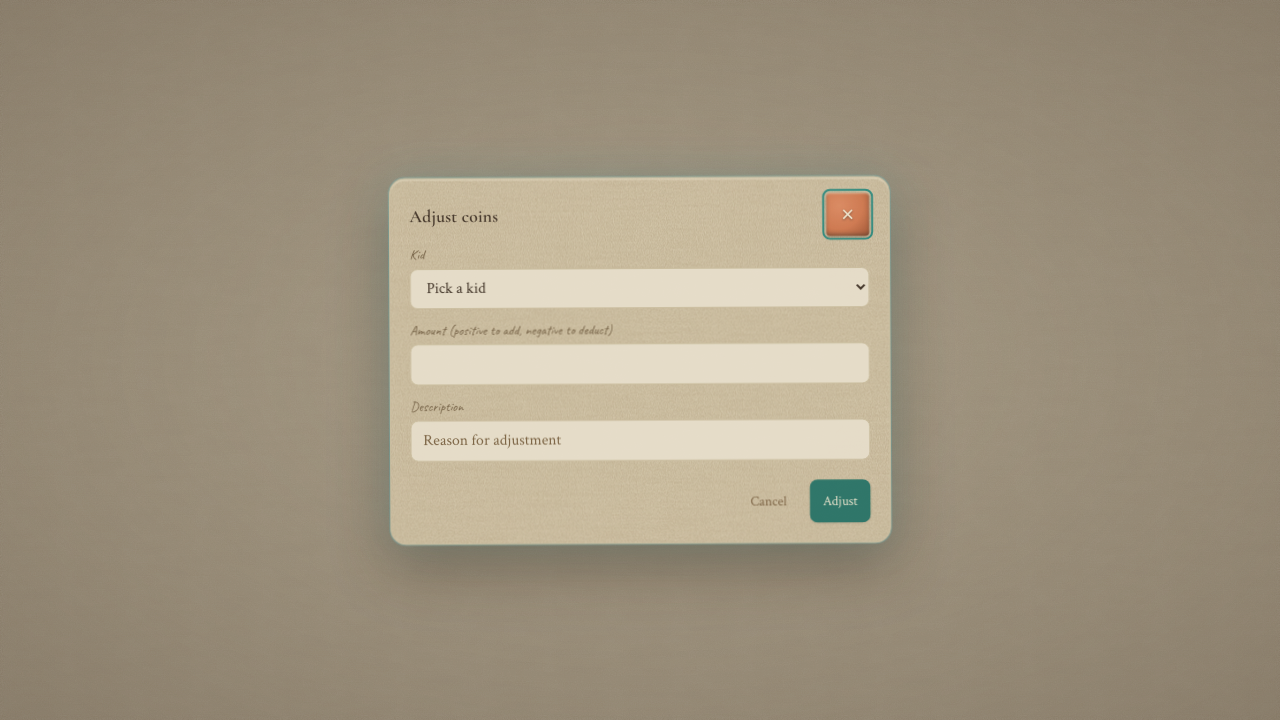
Scenario: CoinAdjustModal › surfaces server error
Select "Abby" in the dropdown labelled "Kid" at (640, 288), box [410,266,870,309]
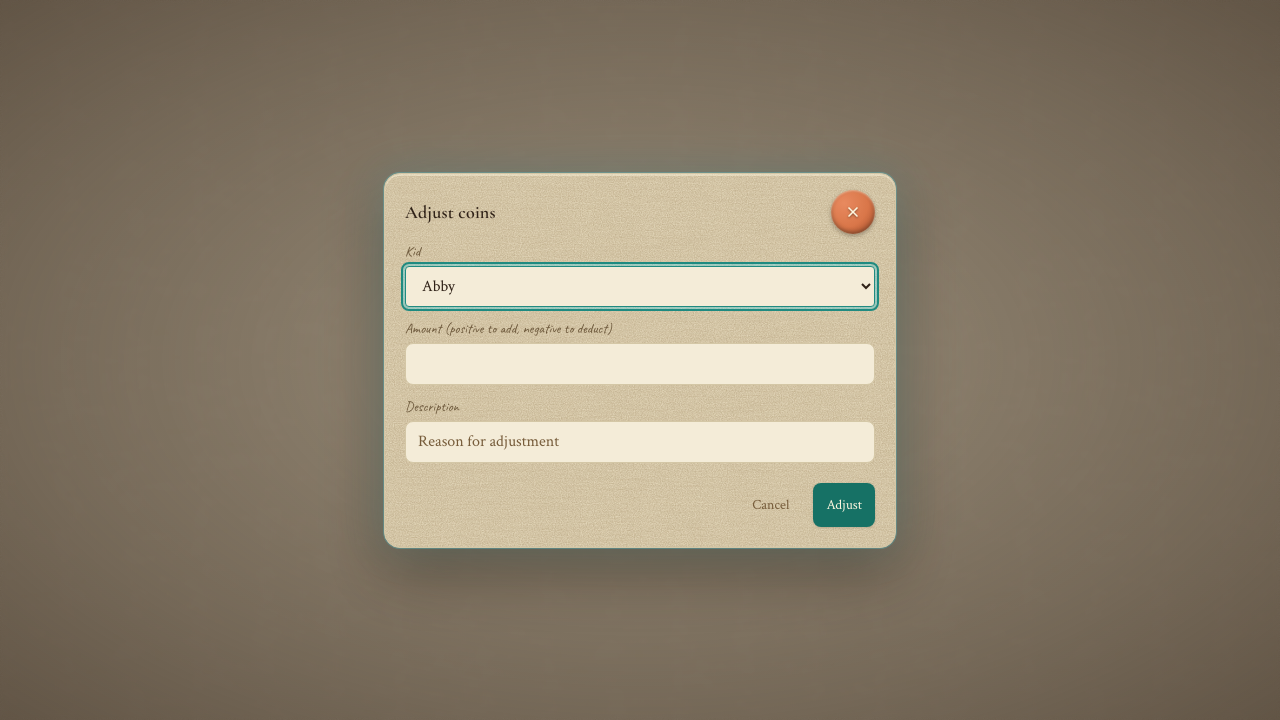
Type "10" into the number field at (640, 364), box [405,342,875,384]
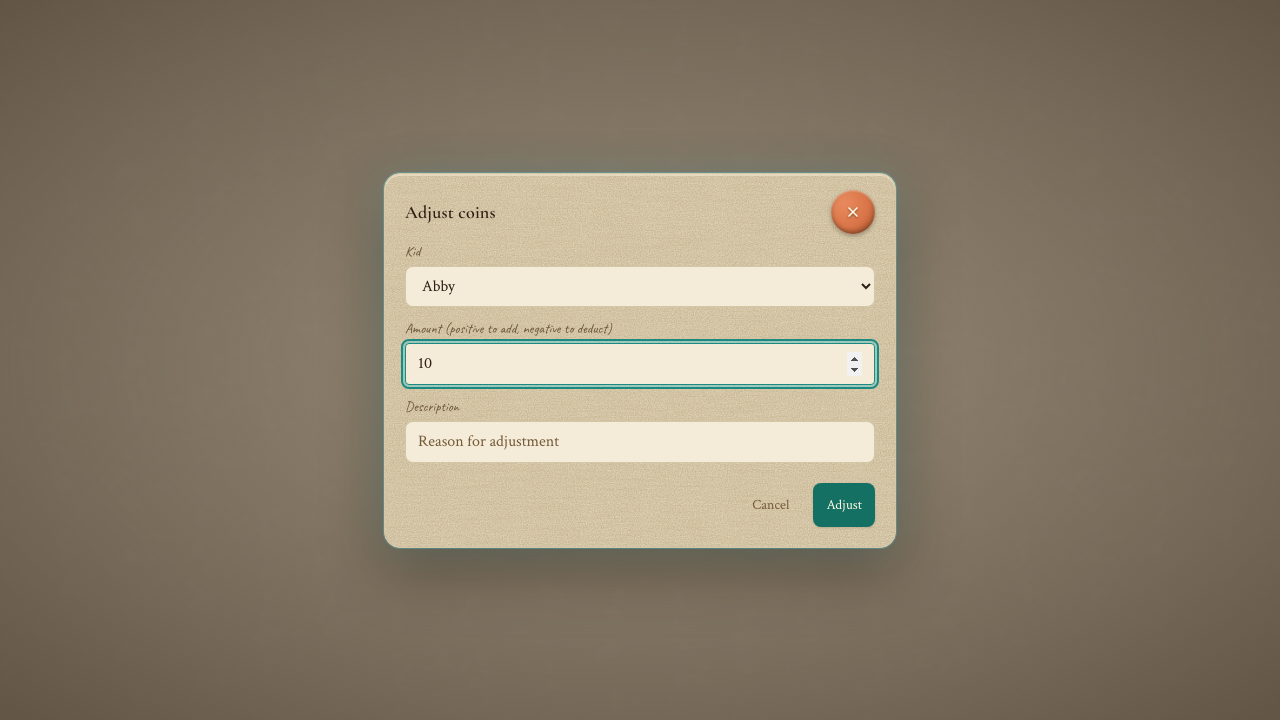
Click the button "Adjust" at (844, 504), box [813,482,875,526]
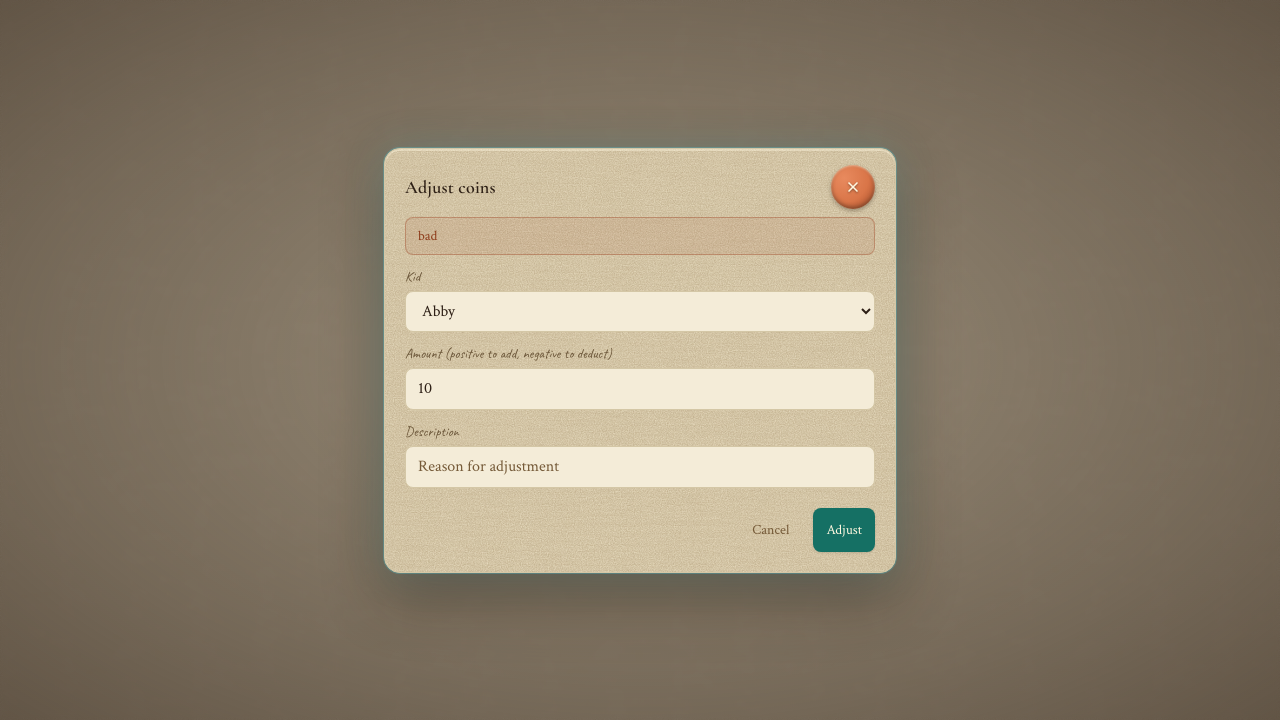
Result: the text "bad" is shown at [418,226,437,244]
